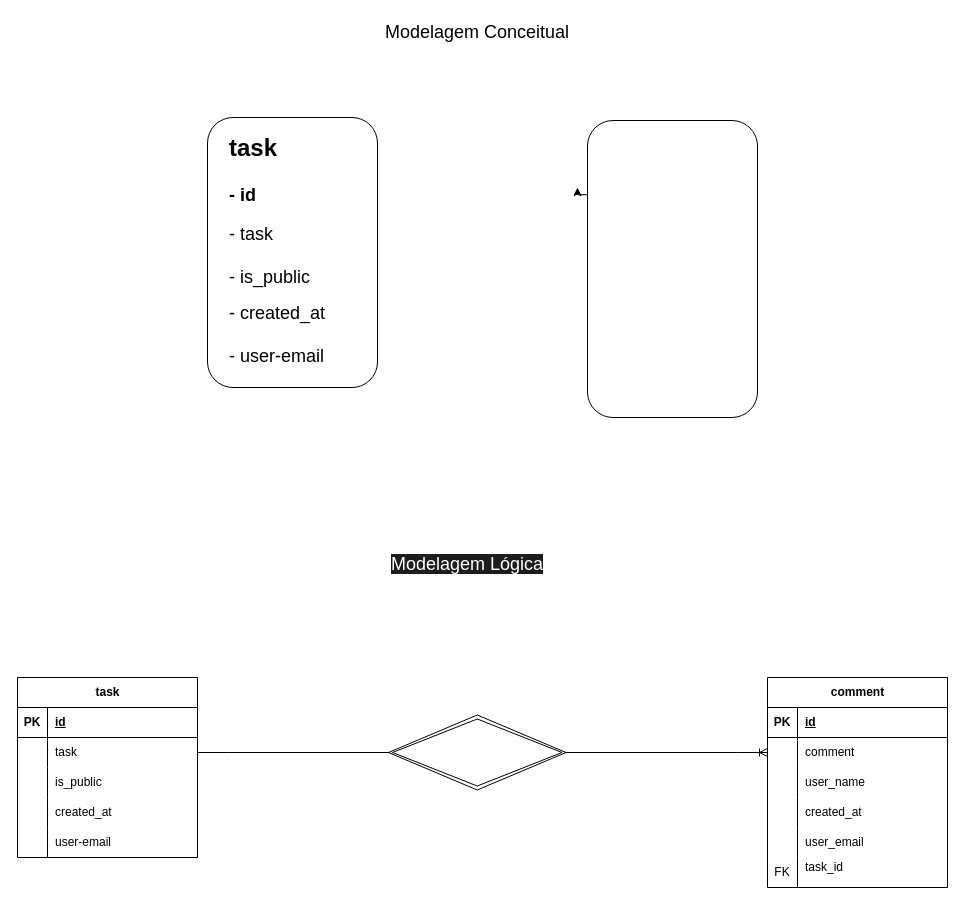
The diagram is 965 pixels wide and 905 high, and some of its shapes have lost their labels. The centre of each missing label's shape, as x and y in pixels:
"comment - id - comment - task_id - user_name - user_email - created_at" goes at (x=672, y=269).
"possuir/pertencer" goes at (x=477, y=752).
